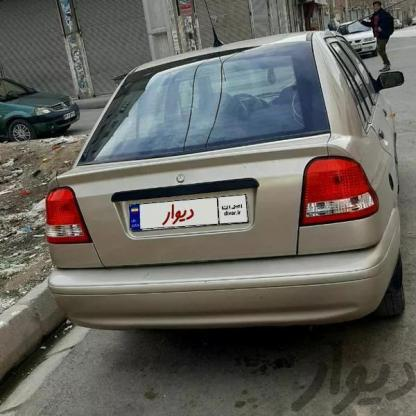Car: (47, 30, 416, 344), (0, 70, 77, 146), (330, 18, 390, 62)
